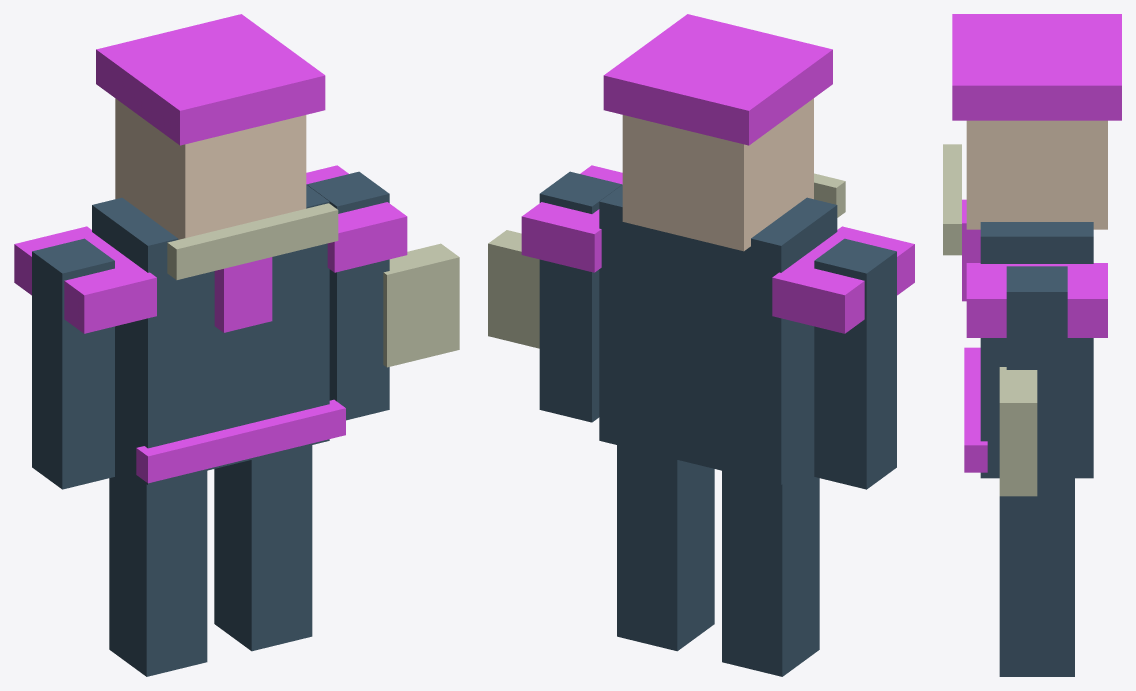
The model's file is 16_kiva_glassroot_herald_from_loot.glb.
The picture shows the model from 3 angles, left to right: view 1: azimuth 30°, elevation 25°; view 2: azimuth 150°, elevation 25°; view 3: azimuth 270°, elevation 25°; orthographic projection.
Parts seen in each view (by area): view 1: Kiva Glassroot, Herald from Loot; view 2: Kiva Glassroot, Herald from Loot; view 3: Kiva Glassroot, Herald from Loot.
Boxes of the visible parts, box(x1,y1,x2,y2) form: Kiva Glassroot, Herald from Loot: box(14, 14, 459, 676); Kiva Glassroot, Herald from Loot: box(488, 14, 914, 676); Kiva Glassroot, Herald from Loot: box(943, 14, 1121, 676).
Size of the model in its own units: 1.07 by 1.5 by 0.416.
